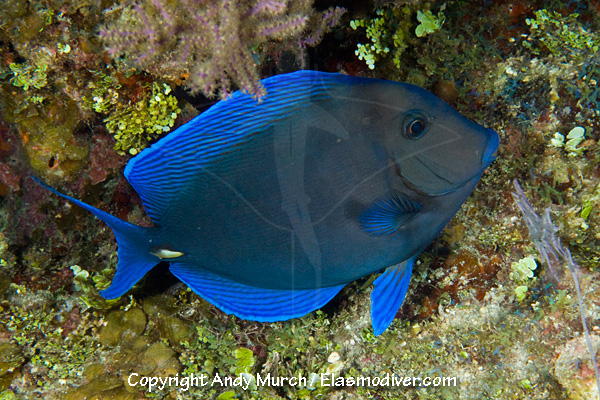Acanthurus_coeruleus: (29, 58, 503, 337)
